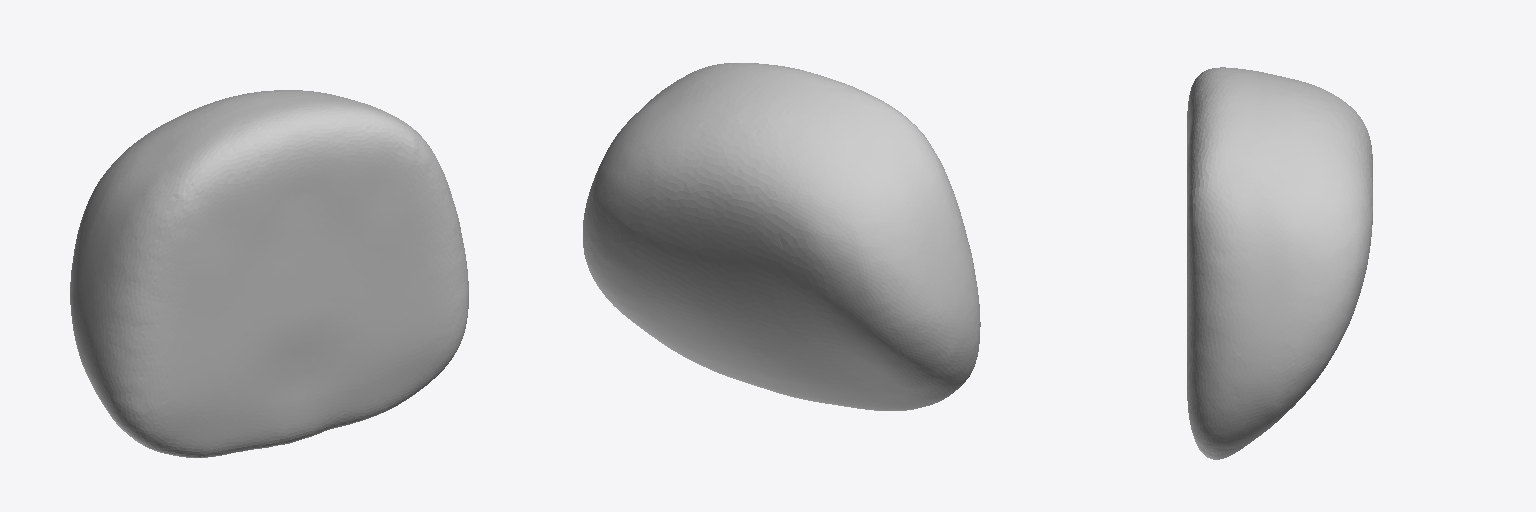
The model's file is back7.obj.
The picture shows the model from 3 angles: view 1: azimuth 30°, elevation 25°; view 2: azimuth 150°, elevation 25°; view 3: azimuth 270°, elevation 25°; orthographic projection.
Parts seen in each view (by area): view 1: Group12609; view 2: Group12609; view 3: Group12609.
Part boxes in pixels (x1,y1,x2,y2): Group12609: (70, 90, 468, 457); Group12609: (583, 63, 980, 410); Group12609: (1187, 67, 1372, 459).
Bounding box in the file's own units: 0.2629 × 0.2229 × 0.1155.